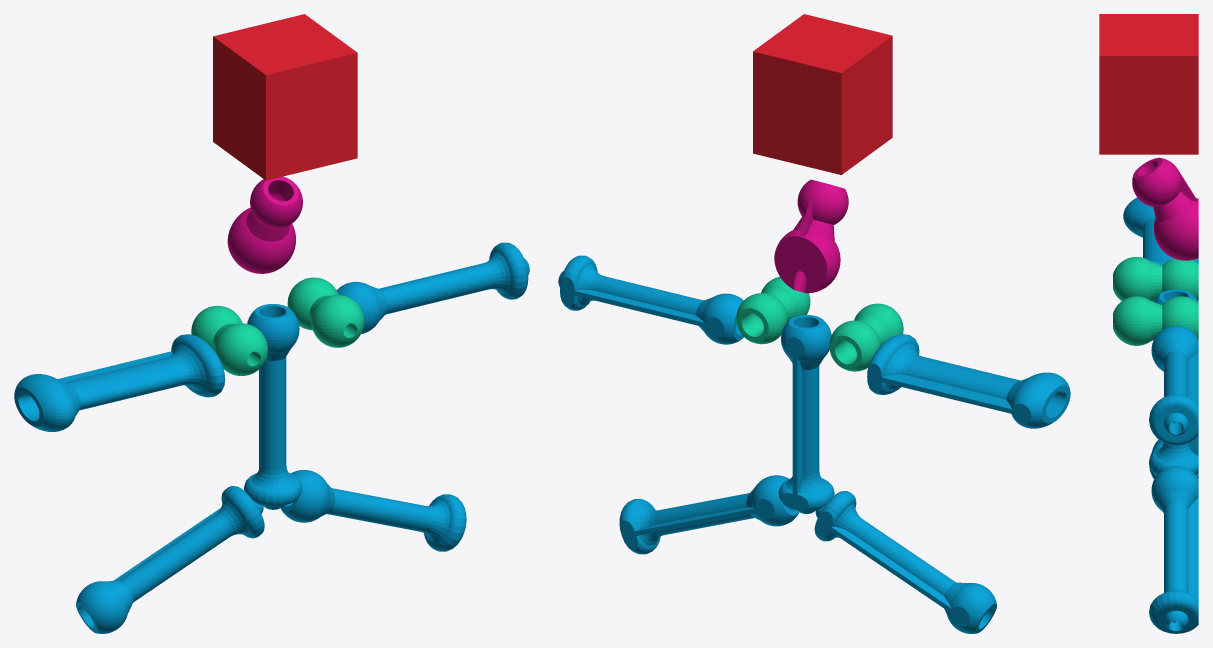
The model's file is tinker.obj.
3 views of the same model, side by side, from view 1: azimuth 30°, elevation 25°; view 2: azimuth 150°, elevation 25°; view 3: azimuth 270°, elevation 25° (orthographic). The views are drawn at different scales.
Parts seen in each view (by area): view 1: group_0_40919, group_0_15277357, group_0_1234080, group_0_14093196; view 2: group_0_40919, group_0_15277357, group_0_1234080, group_0_14093196; view 3: group_0_40919, group_0_15277357, group_0_1234080, group_0_14093196.
Part boxes in pixels (box(x1,y1,x2,y2)): group_0_40919: box(14, 242, 529, 633); group_0_15277357: box(213, 14, 357, 180); group_0_1234080: box(191, 277, 364, 375); group_0_14093196: box(227, 176, 302, 273); group_0_40919: box(558, 255, 1070, 633); group_0_15277357: box(753, 14, 892, 174); group_0_1234080: box(736, 276, 903, 371); group_0_14093196: box(774, 179, 848, 293); group_0_40919: box(1123, 197, 1198, 633); group_0_15277357: box(1099, 14, 1198, 154); group_0_1234080: box(1113, 257, 1198, 345); group_0_14093196: box(1132, 157, 1198, 260).
Bounding box in the file's own units: 110 × 116 × 20.
